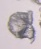microplastic: (7, 10, 36, 45), (36, 6, 41, 29), (30, 1, 41, 6)
